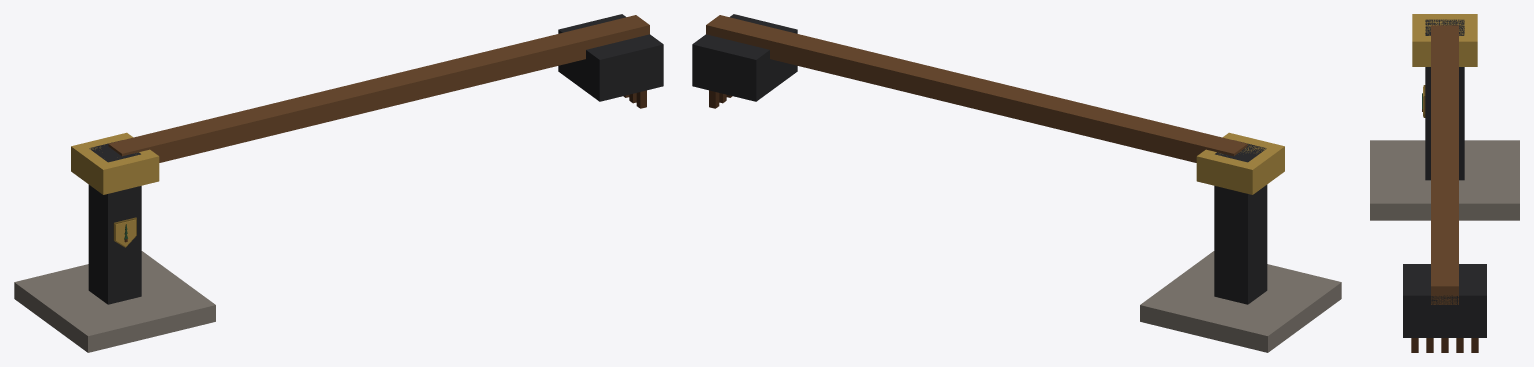
File: WoodSweeper.glb
The picture shows the model from 3 angles, left to right: view 1: azimuth 30°, elevation 25°; view 2: azimuth 150°, elevation 25°; view 3: azimuth 270°, elevation 25°; orthographic projection.
Visible parts, largest first — view 1: Arm, Body; view 2: Arm, Body; view 3: Arm, Body.
Part boxes in pixels (x1,y1,x2,y2): Arm: (108,14,663,162); Body: (14,132,215,352); Arm: (692,14,1247,162); Body: (1140,132,1341,352); Arm: (1403,25,1486,352); Body: (1370,14,1519,220).
Bounding box in the file's own units: 7.4 × 1.93 × 1.6.
